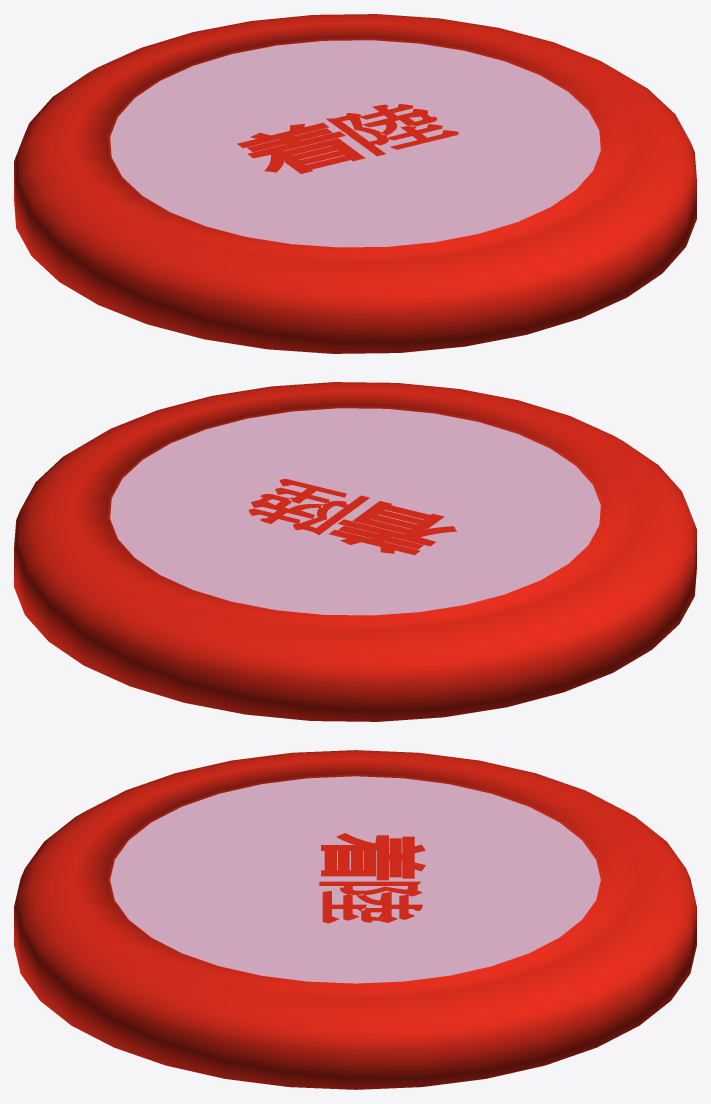
Rendered from 着陸丸ボタン.fbx.
3 renders of one model, top to bottom at view 1: azimuth 30°, elevation 25°; view 2: azimuth 150°, elevation 25°; view 3: azimuth 270°, elevation 25°, orthographic.
Parts seen in each view (by area): view 1: 円柱, 円, テキスト.001, テキスト; view 2: 円柱, 円, テキスト.001, テキスト; view 3: 円柱, 円, テキスト.001, テキスト.
Boxes of the visible parts, bbox=[...] form: 円柱: bbox=[14, 14, 696, 353]; 円: bbox=[110, 40, 600, 247]; テキスト.001: bbox=[237, 123, 365, 173]; テキスト: bbox=[326, 104, 458, 156]; 円柱: bbox=[14, 382, 696, 721]; 円: bbox=[110, 408, 600, 615]; テキスト.001: bbox=[328, 501, 456, 555]; テキスト: bbox=[248, 478, 369, 534]; 円柱: bbox=[14, 750, 696, 1089]; 円: bbox=[110, 776, 600, 983]; テキスト.001: bbox=[321, 833, 425, 880]; テキスト: bbox=[319, 881, 422, 923].
Size of the model in its own units: 200 by 21.56 by 200.
